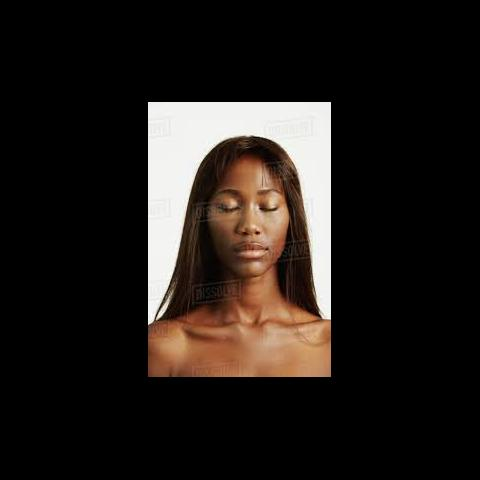closed: (211, 186, 286, 216)
